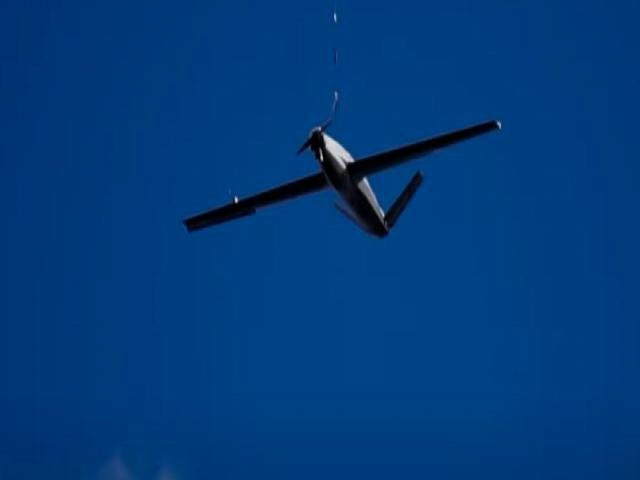iha: (183, 111, 516, 250)
